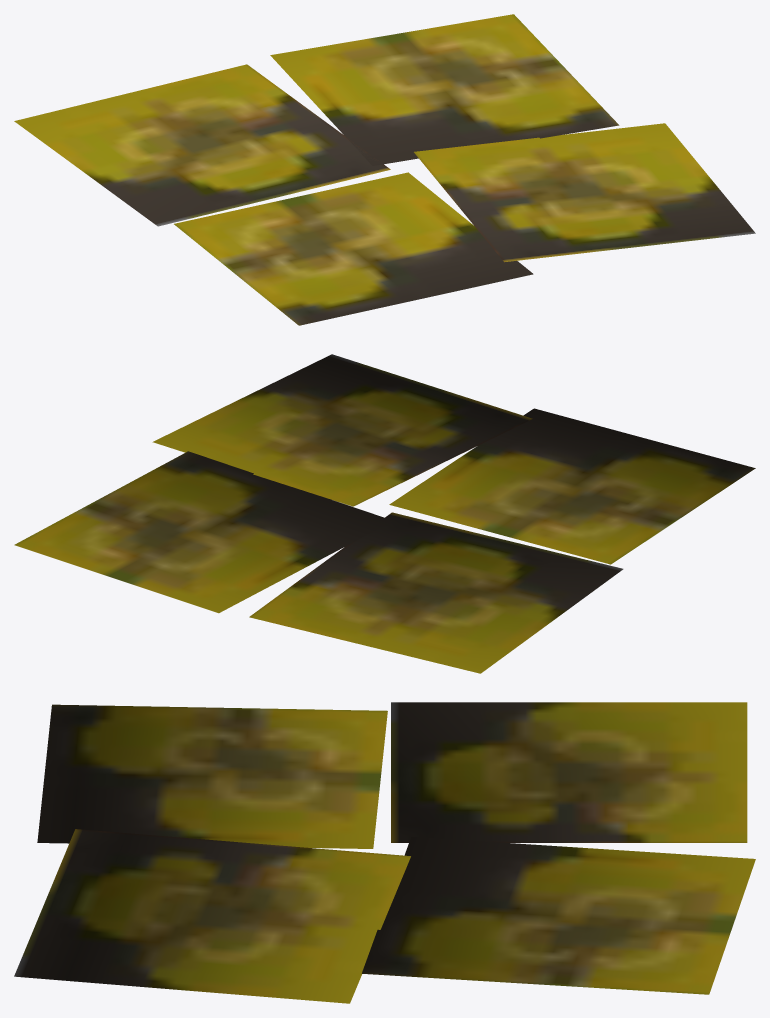
File: fg_grassE.dae
3 renders of one model, top to bottom at view 1: azimuth 30°, elevation 25°; view 2: azimuth 150°, elevation 25°; view 3: azimuth 270°, elevation 25°, orthographic. The views are drawn at different scales.
Visible parts, largest first — view 1: fg_grassE; view 2: fg_grassE; view 3: fg_grassE.
Boxes of the visible parts, x1=… form: fg_grassE: x1=14, y1=14, x2=755, y2=325; fg_grassE: x1=14, y1=354, x2=755, y2=673; fg_grassE: x1=14, y1=702, x2=755, y2=1003.
Size of the model in its own units: 23.5 by 0.3916 by 24.87.
1 material, 1 textured.
